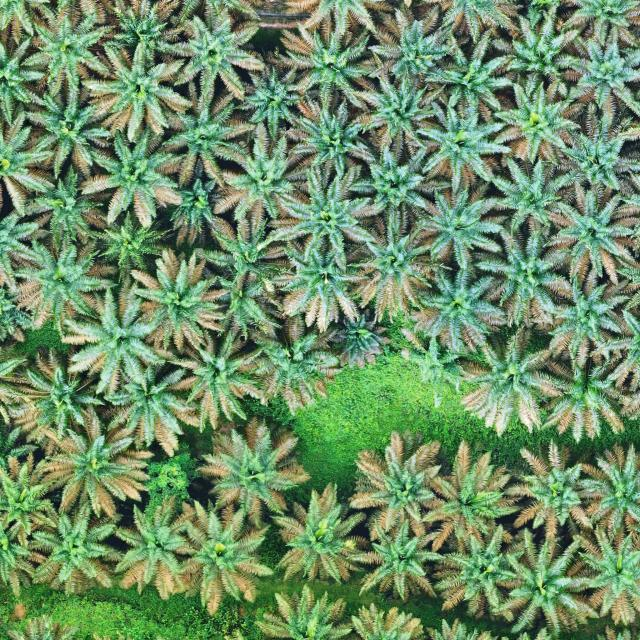Tree: (32, 408, 156, 522), (76, 33, 196, 143), (199, 413, 313, 524), (490, 522, 602, 634), (55, 283, 165, 397), (421, 436, 523, 558), (346, 427, 450, 543), (181, 495, 277, 619), (463, 328, 568, 440), (528, 335, 634, 445), (161, 324, 271, 429), (427, 518, 531, 626), (76, 125, 186, 226), (153, 86, 258, 190), (342, 142, 454, 236), (195, 200, 302, 297), (5, 239, 119, 329), (20, 74, 114, 183), (283, 164, 378, 270), (469, 222, 565, 326), (129, 252, 228, 352), (274, 12, 377, 108), (162, 15, 270, 105), (25, 499, 121, 596), (542, 188, 637, 286), (18, 7, 119, 99), (212, 118, 300, 219), (270, 241, 366, 333), (508, 442, 606, 532), (416, 100, 516, 188), (490, 74, 584, 167), (417, 258, 509, 353), (248, 329, 346, 418), (421, 21, 516, 112), (276, 487, 366, 583), (15, 345, 104, 442), (347, 515, 446, 599), (414, 183, 505, 273), (355, 229, 441, 323), (351, 68, 442, 156), (113, 500, 195, 597), (564, 524, 640, 626), (483, 146, 573, 232), (288, 95, 379, 180), (14, 164, 106, 246), (558, 105, 640, 195), (544, 274, 624, 365), (364, 15, 465, 86), (505, 9, 581, 102), (561, 26, 640, 108), (576, 443, 640, 544), (201, 266, 284, 342), (401, 324, 475, 408), (0, 451, 62, 547), (159, 168, 226, 251), (254, 586, 354, 640), (90, 212, 169, 276), (240, 62, 306, 138), (328, 312, 391, 372)
